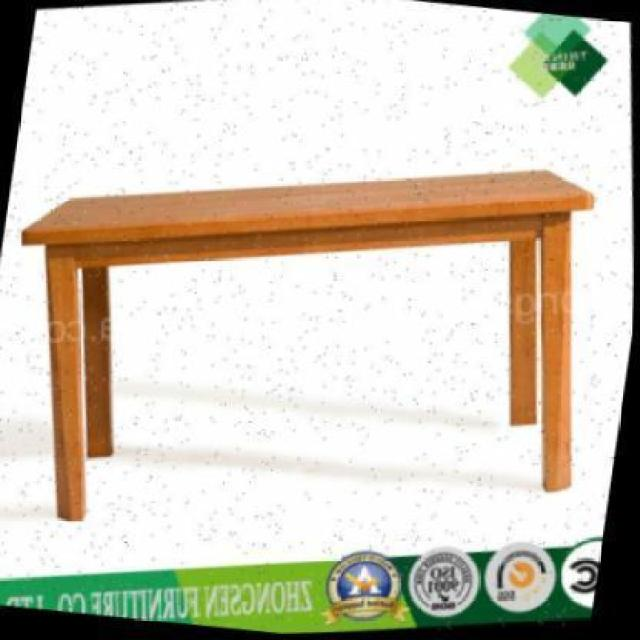tables: (20, 166, 594, 520)
